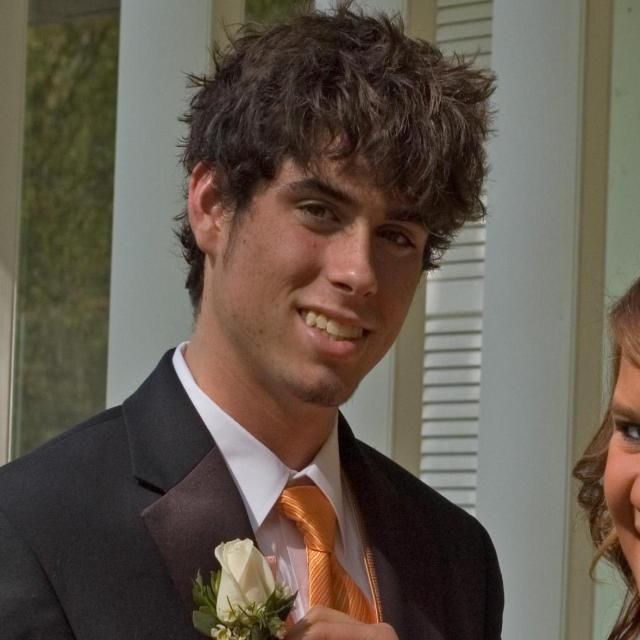no-glass: (294, 195, 412, 249)
